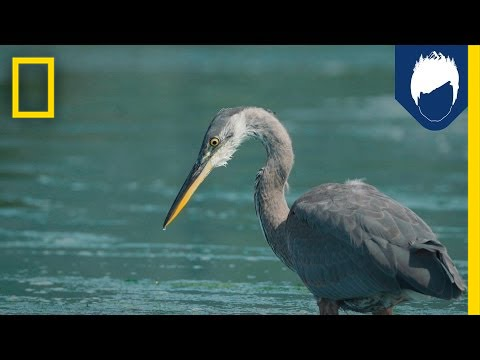heron: (161, 106, 466, 313)
